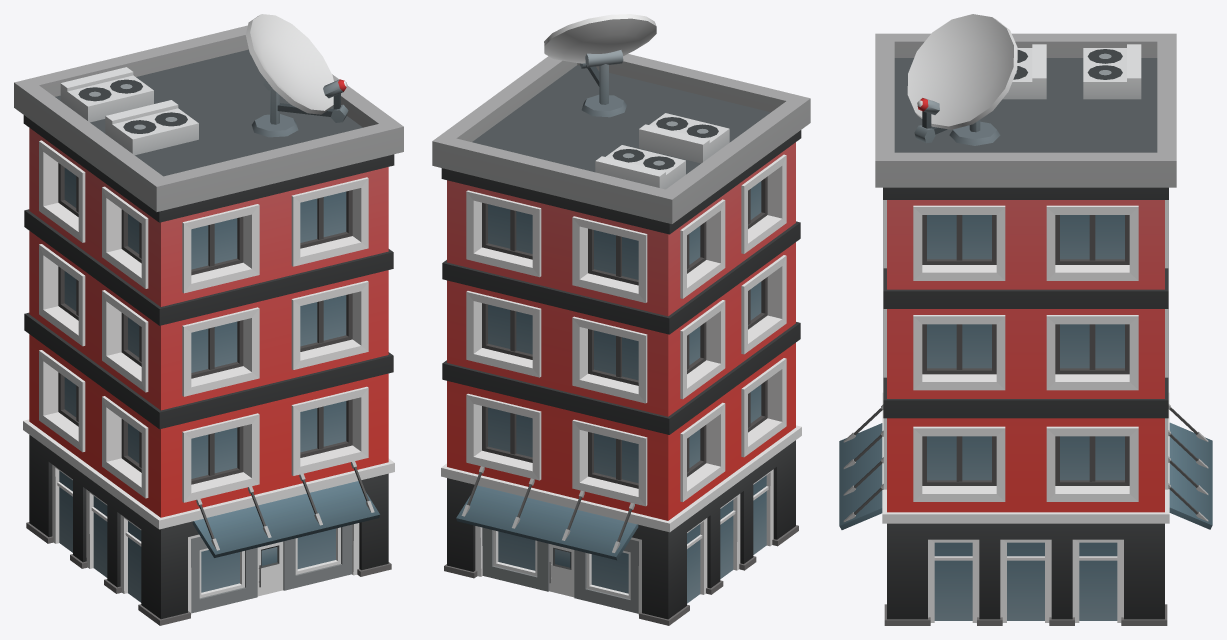
File: residental_building_002.glb
3 views of the same model, side by side, from view 1: azimuth 30°, elevation 25°; view 2: azimuth 150°, elevation 25°; view 3: azimuth 270°, elevation 25° (orthographic). The views are drawn at different scales.
Parts seen in each view (by area): view 1: residental_building_002; view 2: residental_building_002; view 3: residental_building_002.
Boxes of the visible parts, x1,y1,x2,y2 form: residental_building_002: (14, 14, 403, 625); residental_building_002: (432, 14, 810, 625); residental_building_002: (839, 14, 1212, 625).
Size of the model in its own units: 11.11 by 22.94 by 13.76.
1 material, 1 textured.
